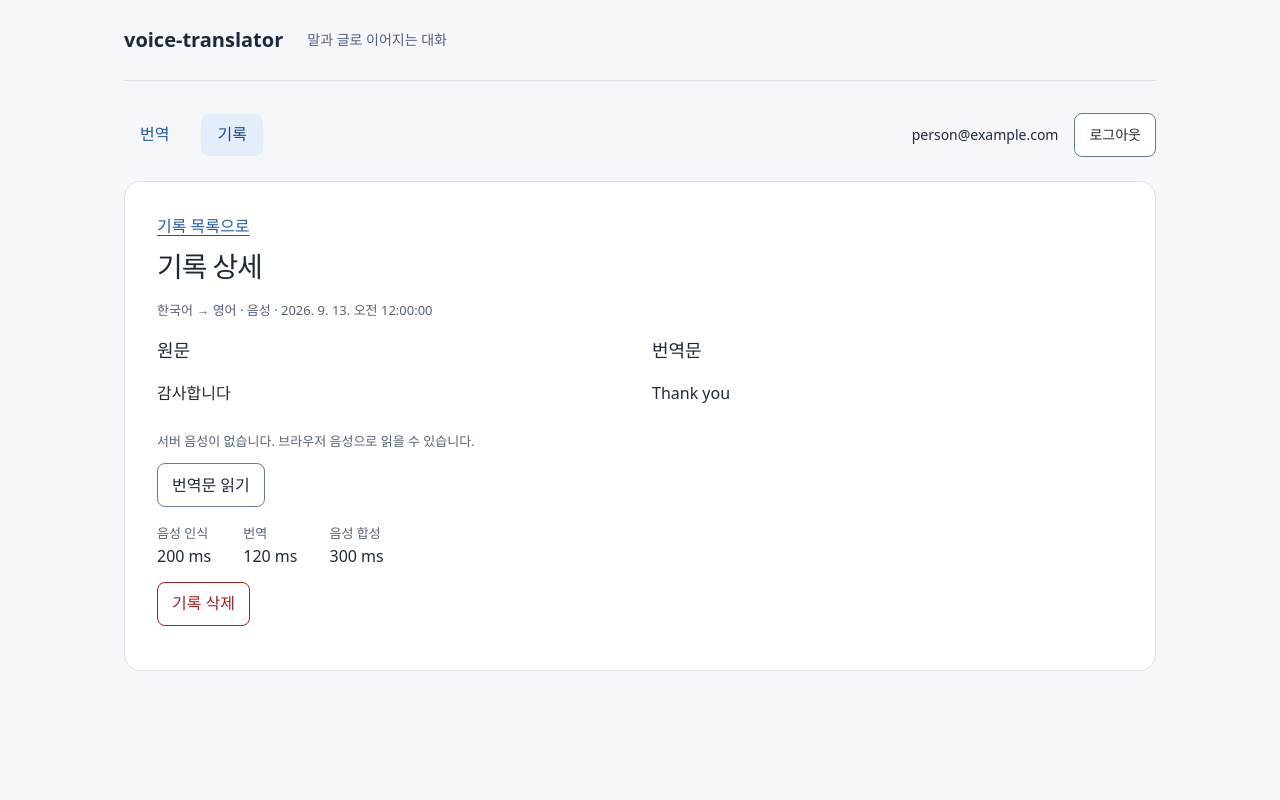
requires confirmation and handles 204 deletion by reloading and correcting an empty last page
Expected: the text "Thank you" is shown, [652,382,730,404]
Click the button "기록 삭제" at coordinates (204, 604), box [157,582,250,626]
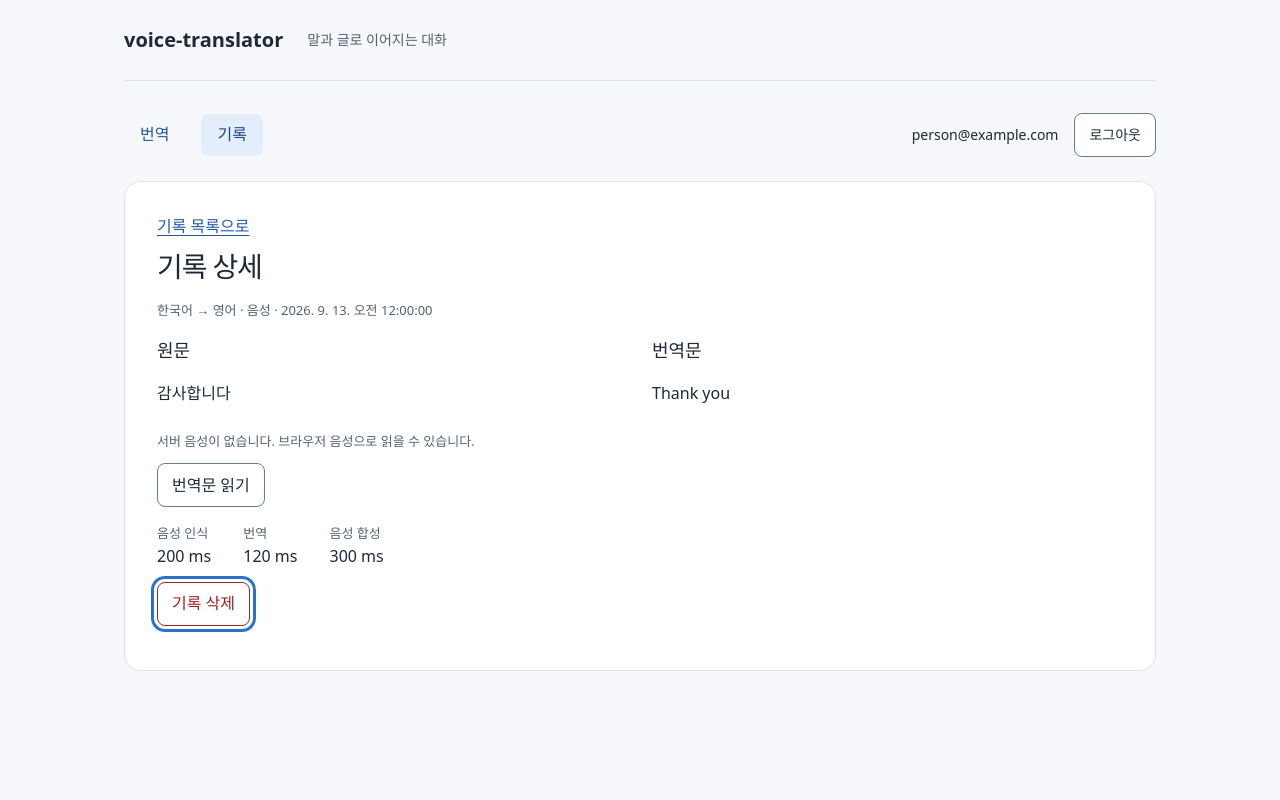
Click the button "기록 삭제" at coordinates (204, 604), box [157,582,250,626]
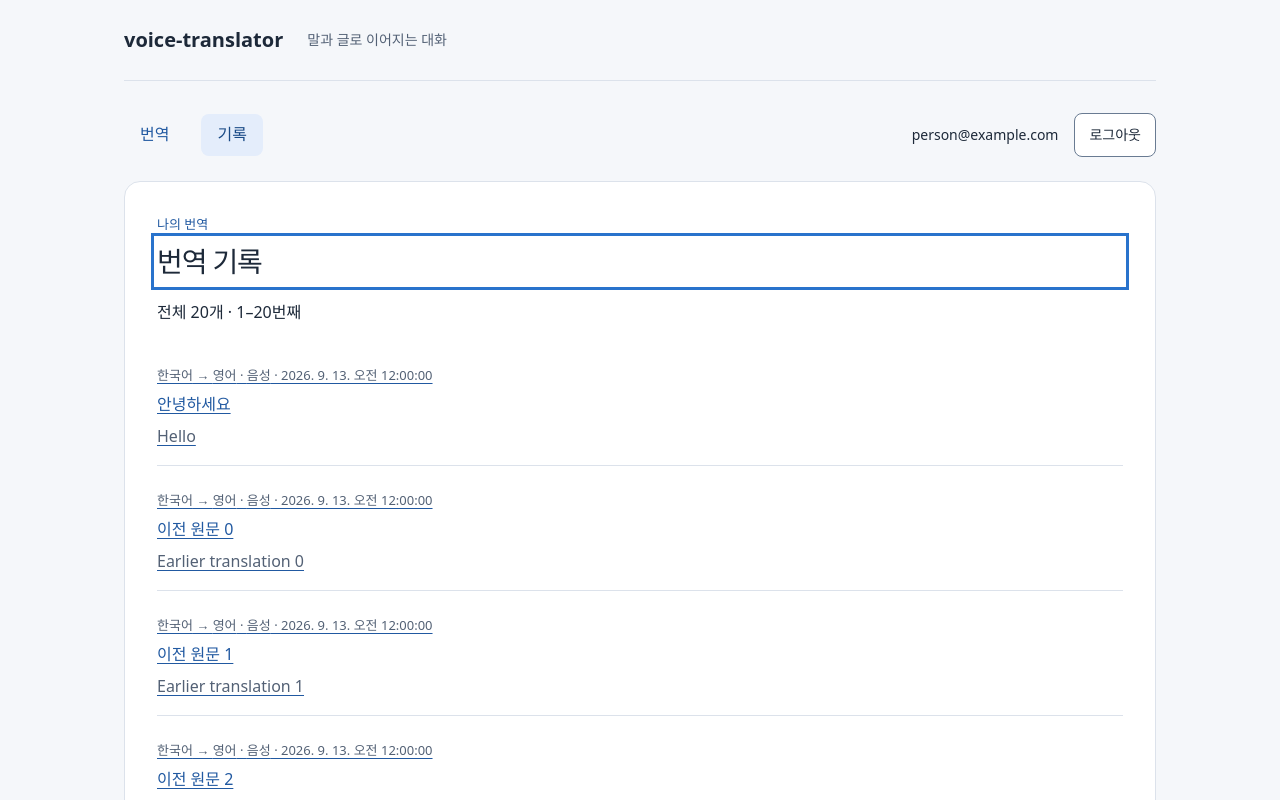
Now the text "전체 20개 · 1–20번째" is shown, box [157,301,301,323]
